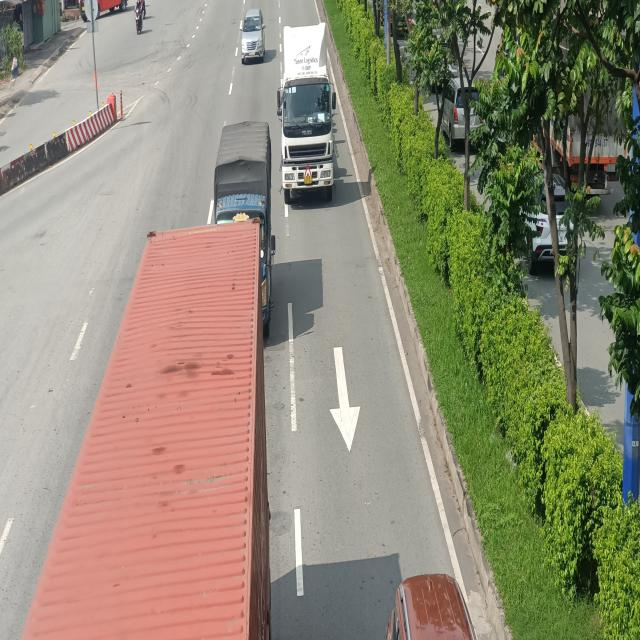car: (240, 10, 266, 64)
container: (28, 225, 274, 640), (279, 22, 337, 199)
truck: (212, 121, 273, 293)
